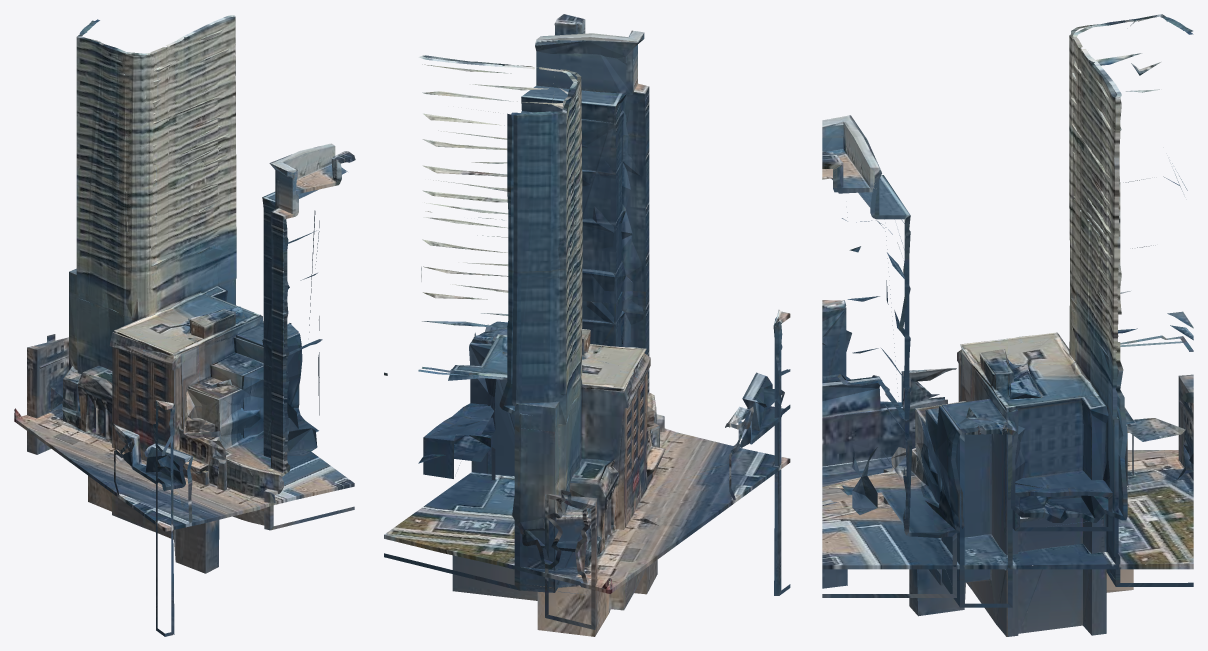
File: chunk_1_7.glb
3 renders of one model, left to right at view 1: azimuth 30°, elevation 25°; view 2: azimuth 150°, elevation 25°; view 3: azimuth 270°, elevation 25°, orthographic. The views are drawn at different scales.
Parts seen in each view (by area): view 1: hero-chunk; view 2: hero-chunk; view 3: hero-chunk.
Part boxes in pixels (<box>): hero-chunk: <box>14,15,355,636</box>; hero-chunk: <box>384,14,790,636</box>; hero-chunk: <box>822,14,1193,636</box>.
Size of the model in its own units: 56.96 by 136 by 76.33.
Materials: 4 (4 with a texture image).
